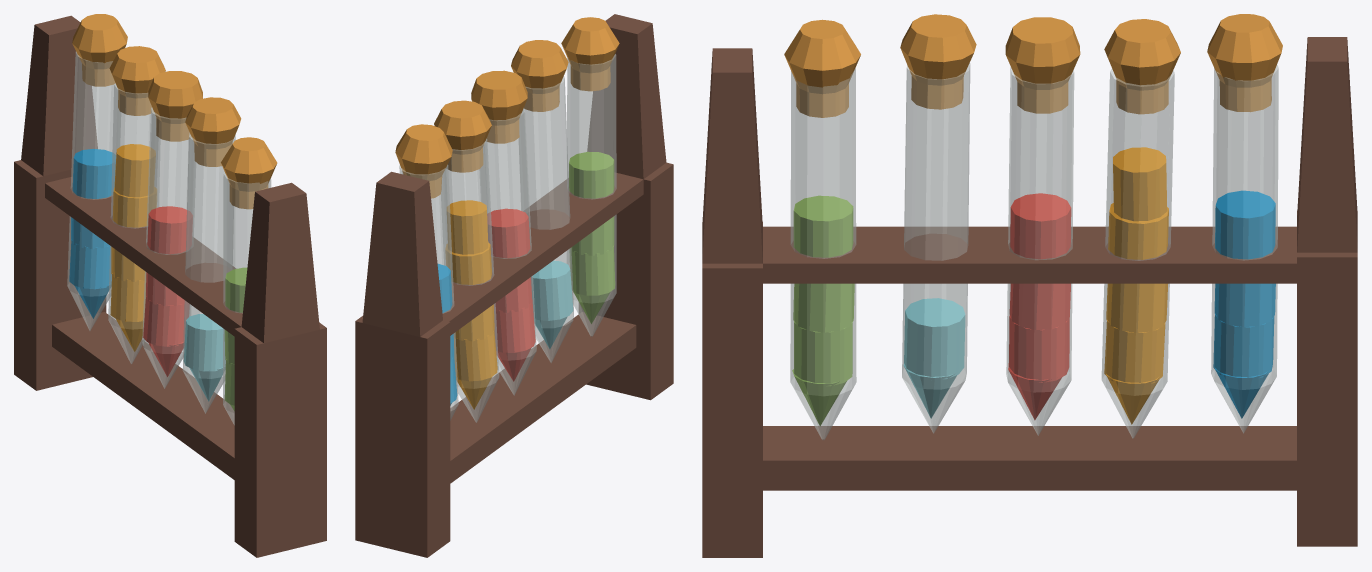
Rendered from rack.glb.
3 renders of one model, left to right at view 1: azimuth 30°, elevation 25°; view 2: azimuth 150°, elevation 25°; view 3: azimuth 270°, elevation 25°, orthographic. The views are drawn at different scales.
Visible parts, largest first — view 1: Node; view 2: Node; view 3: Node.
Boxes of the visible parts, x1,y1,x2,y2 form: Node: [14, 14, 326, 557]; Node: [355, 14, 673, 557]; Node: [702, 14, 1357, 557].
Bounding box in the file's own units: 0.205 × 1.04 × 1.19.
